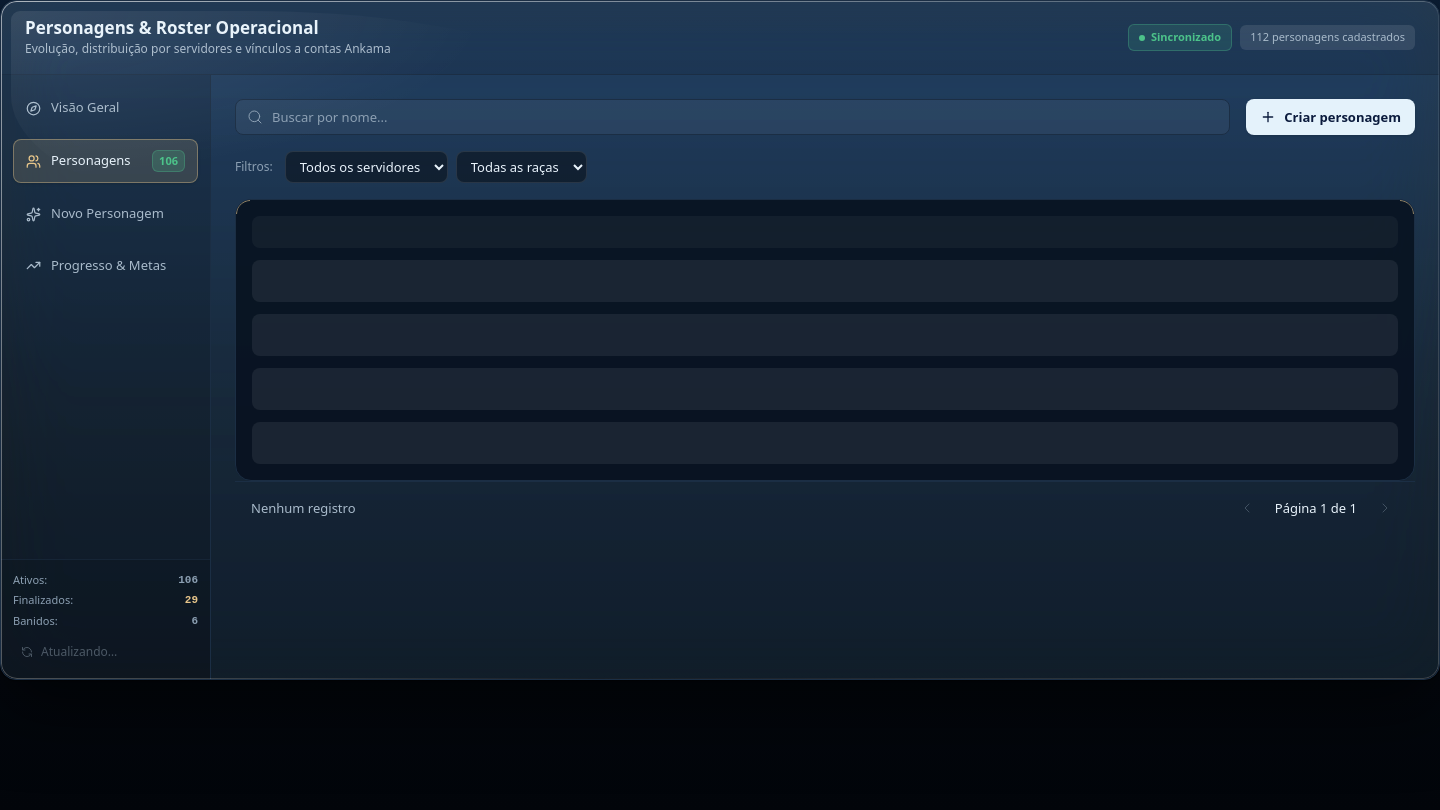
CharactersScreen subtabs integration › switches between Overview, Characters, New Character and Progress subtabs
The width and height of the screenshot is (1440, 810).
expect the search field with placeholder "Buscar por nome..." is shown: met, box [235,99,1230,135]
Note: Muda para Visão Geral
Click the tab "Visão Geral". click: (106, 108)
box: [13,87,198,129]
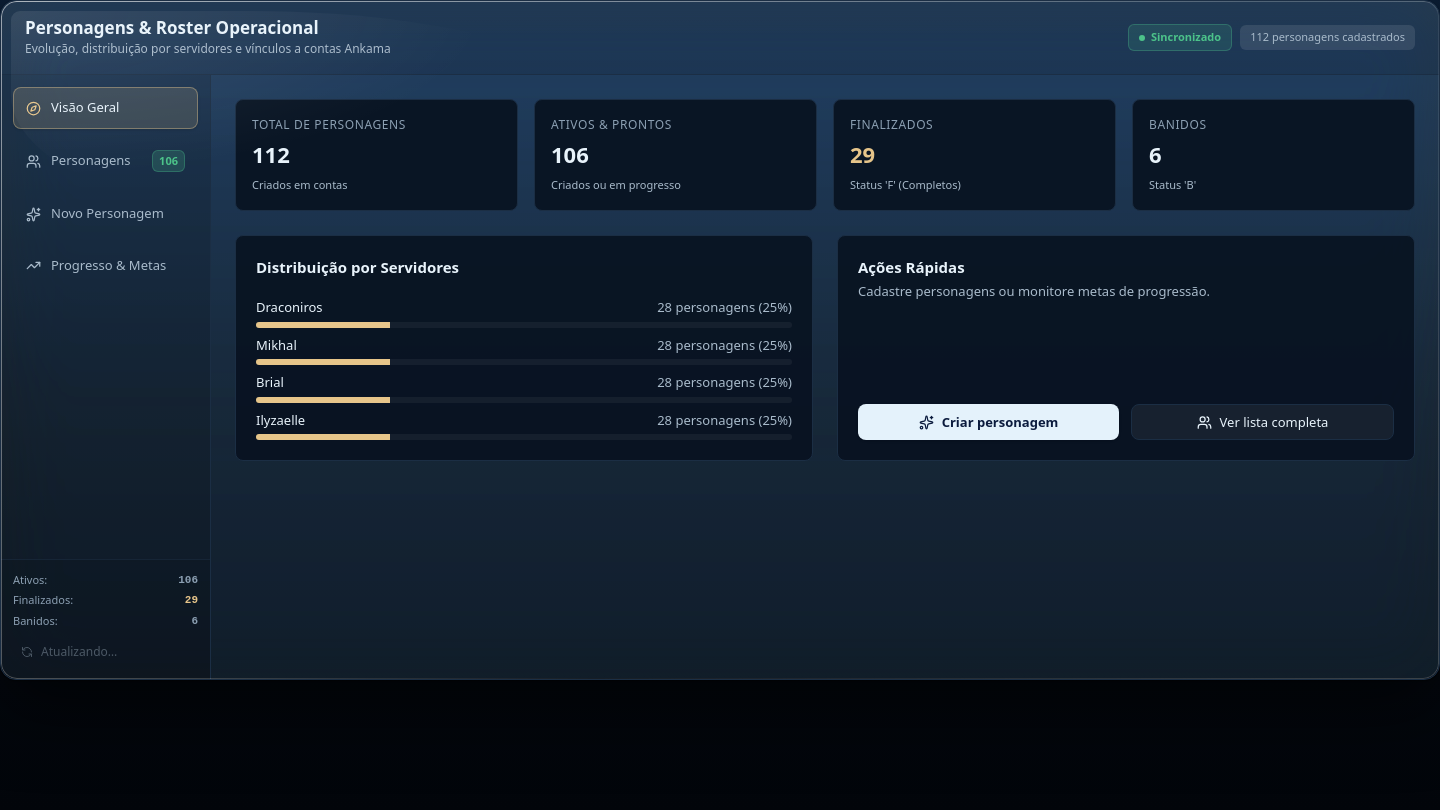
expect the text "Total de Personagens" is shown: met, box [252,116,406,133]
expect the heading "Distribuição por Servidores" is shown: met, box [256,257,459,277]
Note: Muda para Novo Personagem
Click the tab "Novo Personagem". click: (106, 214)
box: [13,193,198,235]
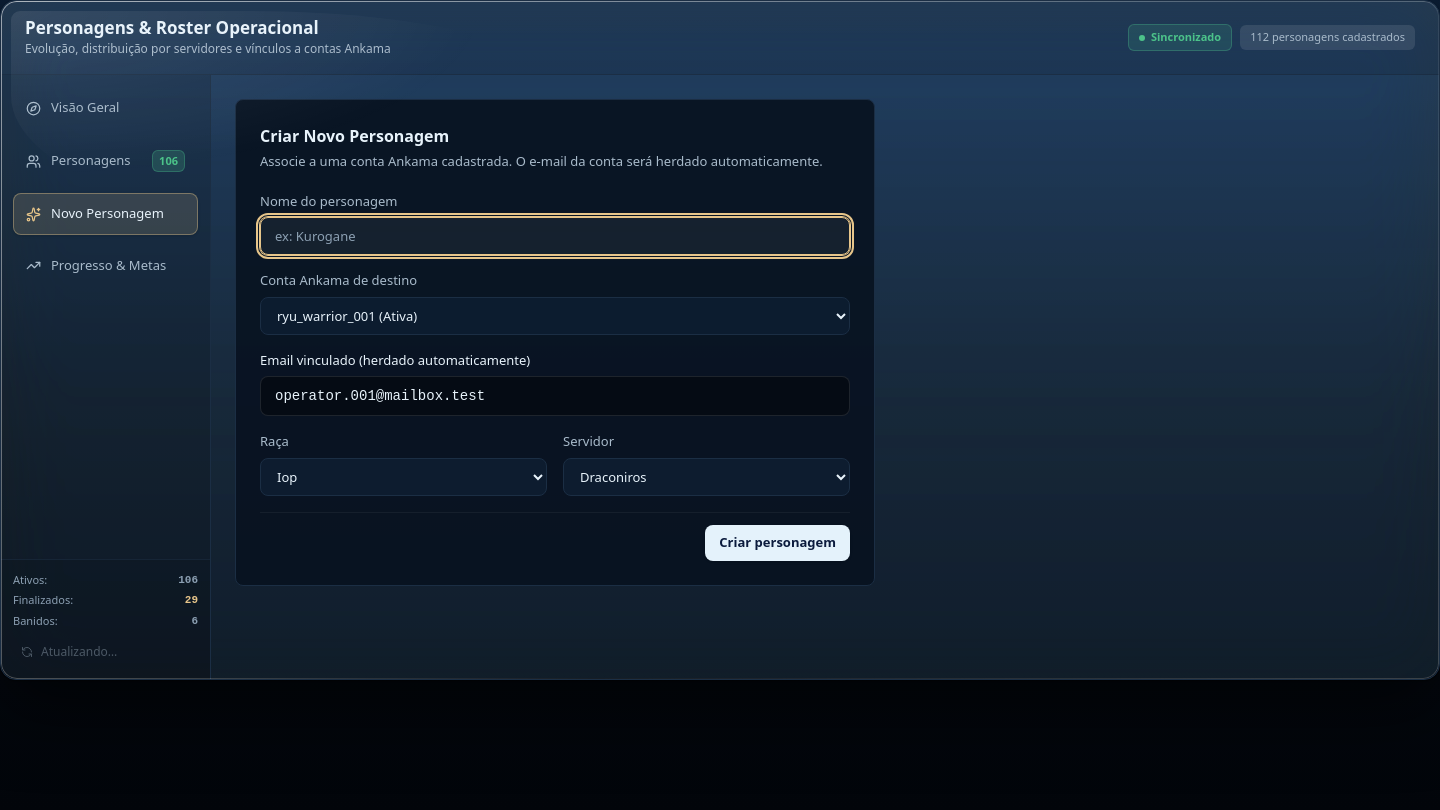
expect the heading "Criar Novo Personagem" is shown: met, box [260,125,449,147]
Note: Muda para Progresso & Metas
Click the tab "Progresso & Metas". click: (106, 266)
box: [13,245,198,286]
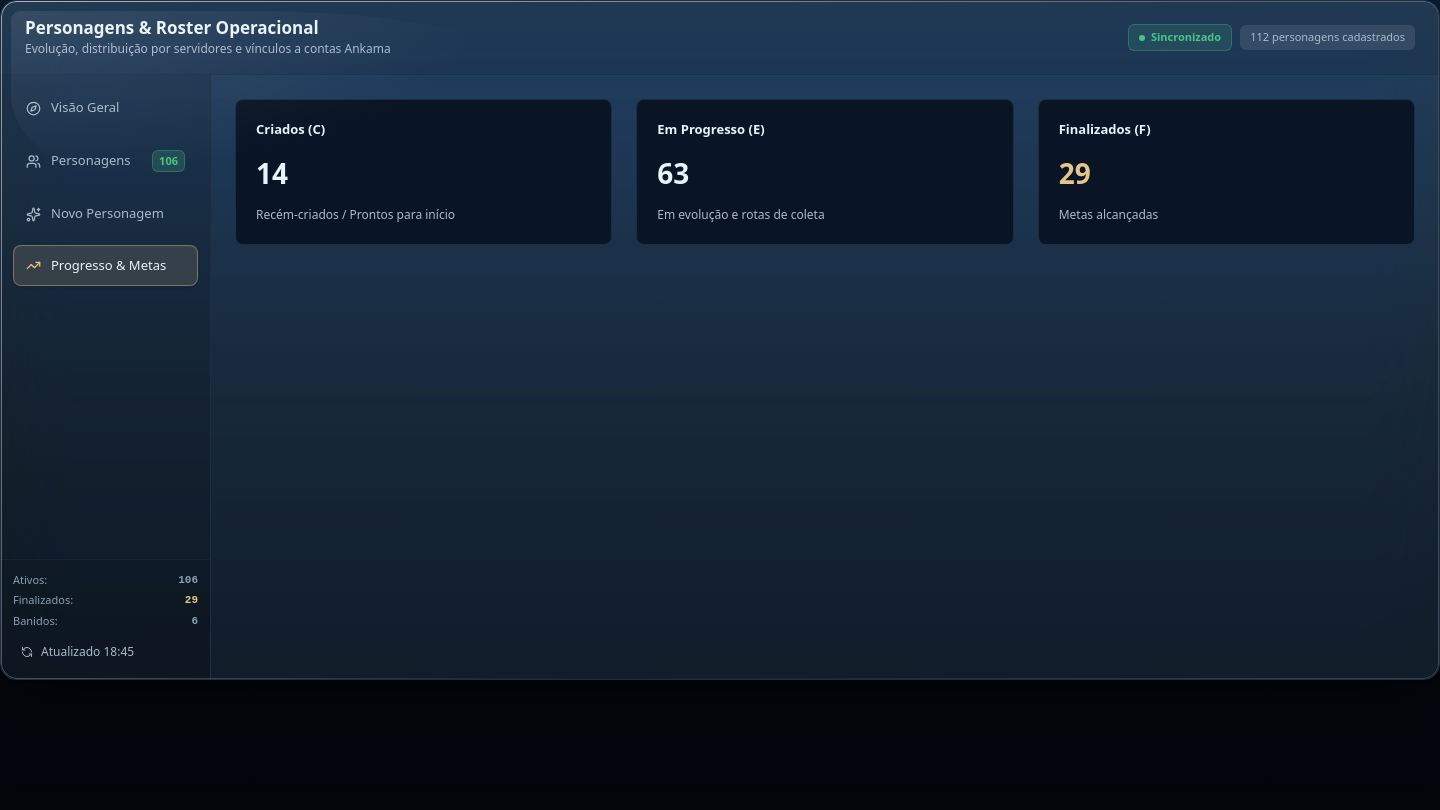
expect the text "Criados (C)" is shown: met, box [256,120,325,138]
expect the text "Em Progresso (E)" is shown: met, box [657,120,765,138]
